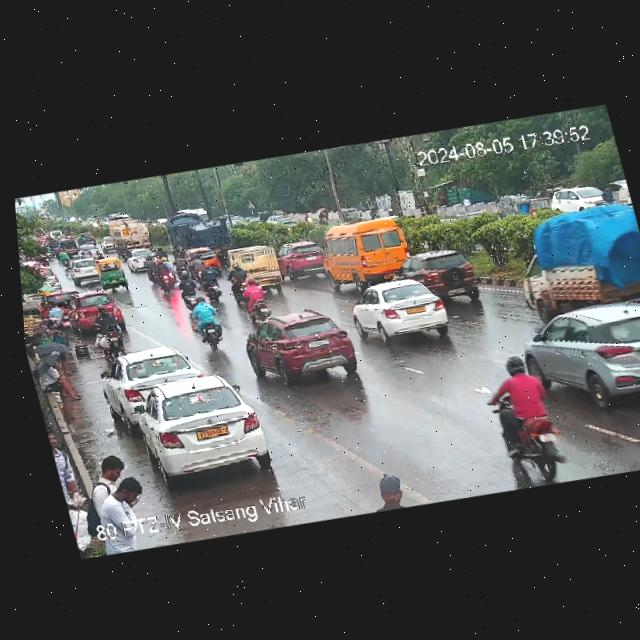bus: (313, 211, 421, 293)
car: (113, 364, 277, 491), (510, 293, 640, 422), (235, 298, 371, 395), (349, 270, 463, 346), (98, 340, 203, 414), (387, 241, 491, 308), (530, 172, 627, 219), (223, 240, 280, 297), (67, 288, 127, 331), (276, 238, 328, 280), (90, 254, 132, 291), (65, 256, 105, 286), (329, 202, 361, 228)
motorcycle: (486, 353, 570, 473), (435, 258, 491, 302), (186, 293, 228, 350), (89, 301, 130, 346), (144, 255, 183, 298), (196, 260, 232, 304), (240, 276, 273, 318), (177, 267, 206, 306)
person: (518, 409, 579, 488), (88, 454, 146, 523), (35, 354, 85, 405), (355, 482, 426, 517), (93, 452, 141, 494), (64, 492, 97, 544), (46, 300, 72, 328)
truck: (497, 189, 640, 342), (167, 207, 241, 260), (104, 213, 158, 254)
